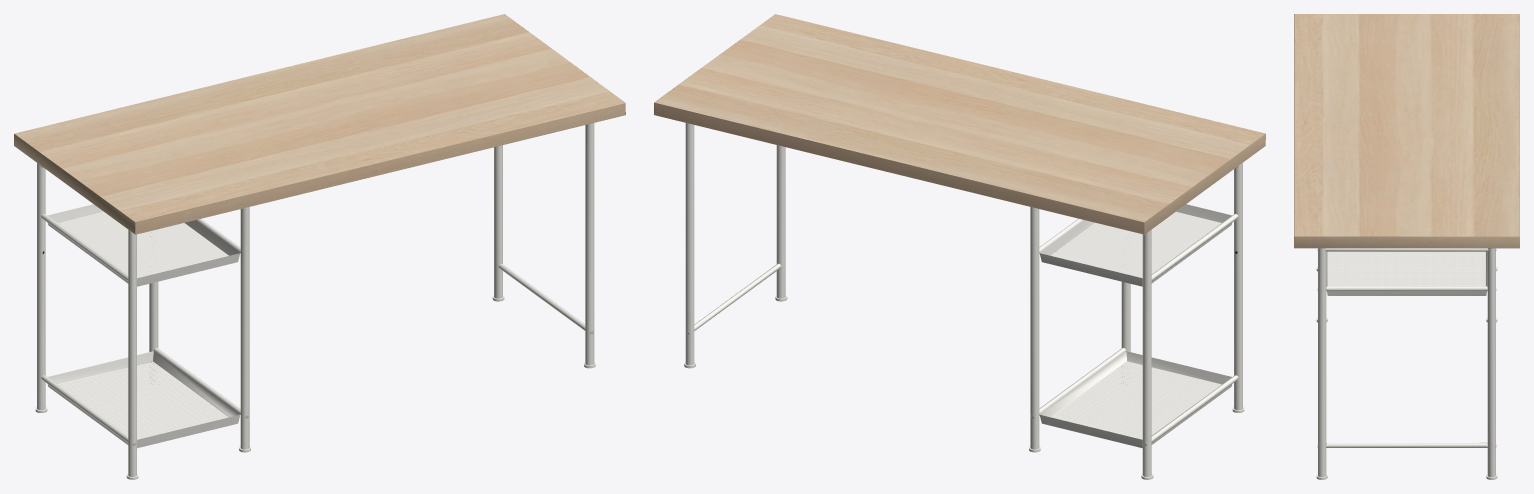
3 views of the same model, side by side, from view 1: azimuth 30°, elevation 25°; view 2: azimuth 150°, elevation 25°; view 3: azimuth 270°, elevation 25° (orthographic). The views are drawn at different scales.
Parts seen in each view (by area): view 1: Mesh_0, Mesh_1; view 2: Mesh_0, Mesh_1; view 3: Mesh_0, Mesh_1.
Part boxes in pixels (x1,y1,x2,y2): Mesh_0: (14, 14, 625, 479); Mesh_1: (58, 212, 228, 439); Mesh_0: (654, 14, 1265, 479); Mesh_1: (1051, 212, 1221, 439); Mesh_0: (1294, 14, 1519, 479); Mesh_1: (1328, 251, 1485, 286).
Bounding box in the file's own units: 1.4 × 0.7339 × 0.5998.
2 materials, 2 textured.
